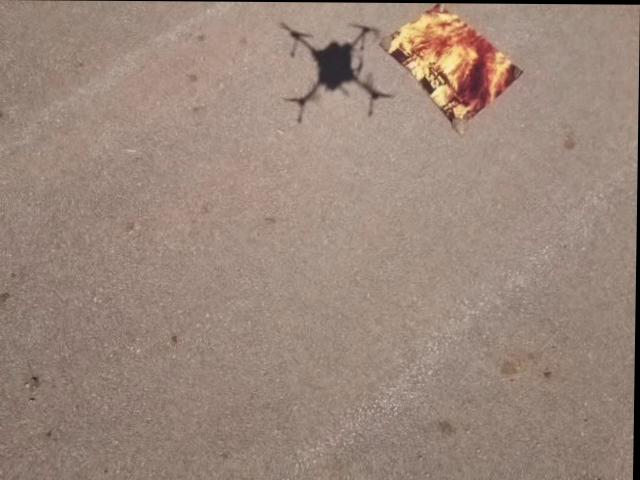fire-poster: (377, 2, 526, 136)
